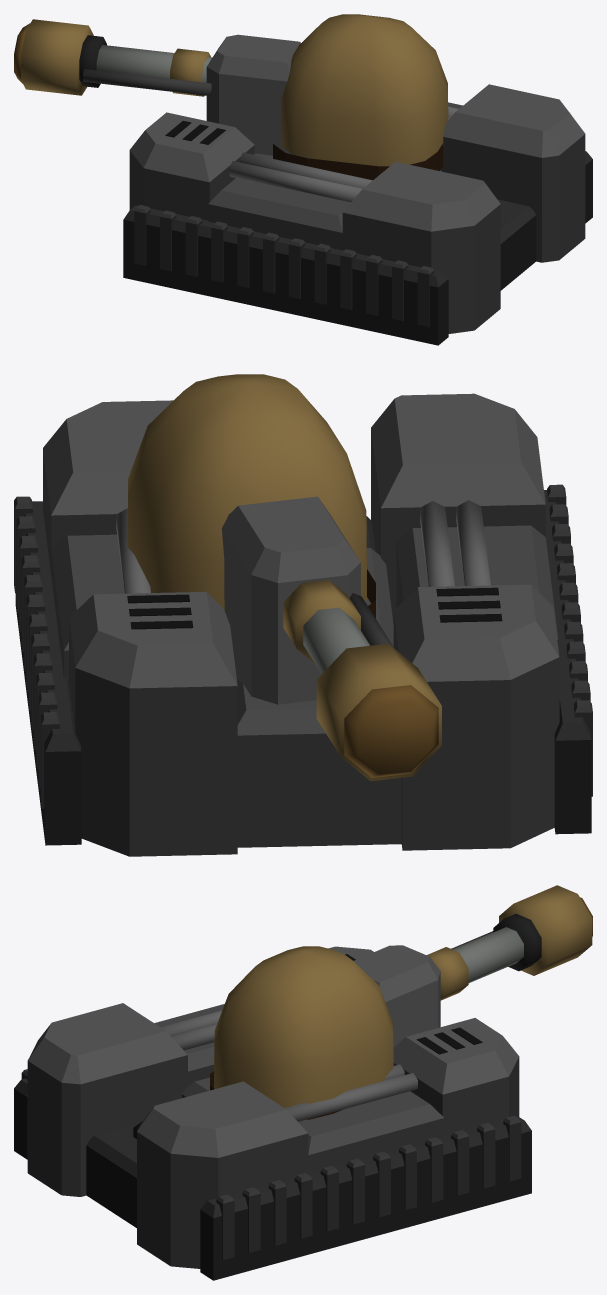
File: newshp-13.glb
The picture shows the model from 3 angles, top to bottom: view 1: azimuth 30°, elevation 25°; view 2: azimuth 150°, elevation 25°; view 3: azimuth 270°, elevation 25°; orthographic projection. The views are drawn at different scales.
Visible parts, largest first — view 1: newshp-13; view 2: newshp-13; view 3: newshp-13.
Part boxes in pixels (<box>): newshp-13: <box>14,14,592,345</box>; newshp-13: <box>14,374,592,856</box>; newshp-13: <box>14,885,592,1280</box>.
Size of the model in its own units: 1.26 by 0.6167 by 1.4.
